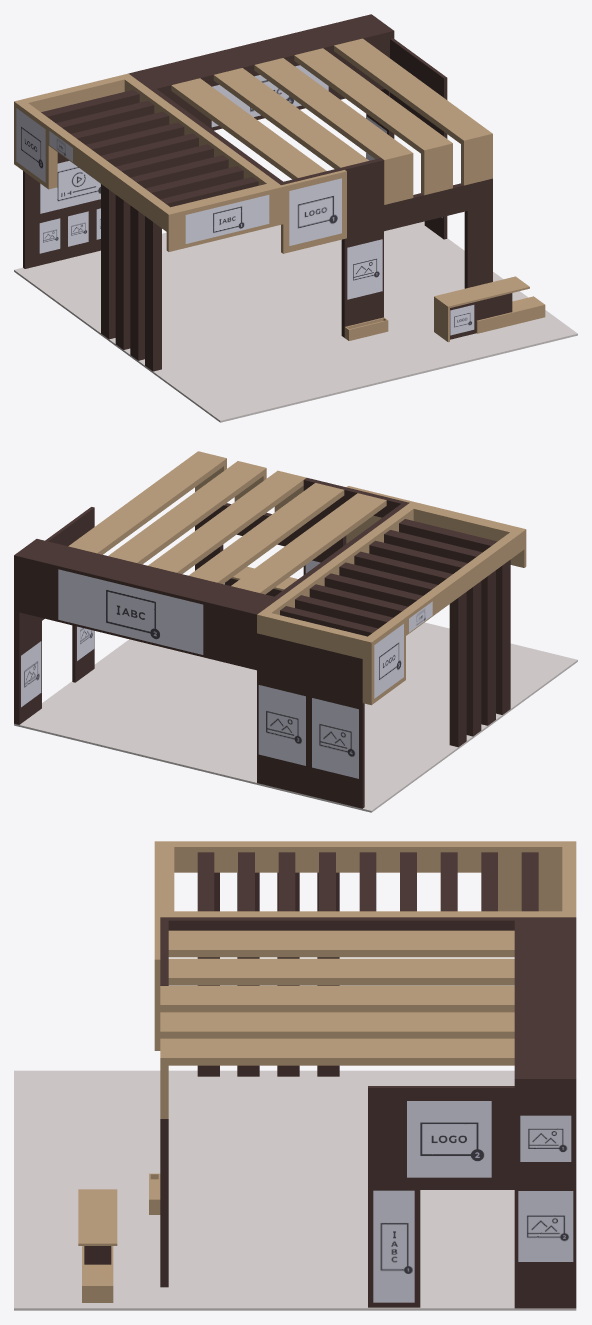
File: stant62.gltf
3 renders of one model, top to bottom at view 1: azimuth 30°, elevation 25°; view 2: azimuth 150°, elevation 25°; view 3: azimuth 270°, elevation 25°, orthographic. The views are drawn at different scales.
Parts seen in each view (by area): view 1: modzemin, modrenk2, modrenk1, modlogo1, modyazi1, modvideo1, moddikgorsel1, modlogo3, modyazi4, moddikgorsel5, moddikgorsel6, modlogo4; view 2: modrenk2, modzemin, modrenk1, modyazi2, moddikgorsel3, moddikgorsel4, modlogo3, moddikgorsel8, moddikgorsel9; view 3: modzemin, modrenk1, modrenk2, modlogo2, moddikyazi1, moddikgorsel2, modgorsel1.
Part boxes in pixels (left/top/right/bottom): modzemin: left=14, top=221, right=577, bottom=422; modrenk2: left=23, top=14, right=512, bottom=371; modrenk1: left=14, top=38, right=545, bottom=342; modlogo1: left=289, top=178, right=341, bottom=245; modyazi1: left=185, top=195, right=269, bottom=243; modvideo1: left=40, top=161, right=100, bottom=213; moddikgorsel1: left=347, top=239, right=382, bottom=299; modlogo3: left=16, top=108, right=45, bottom=182; modyazi4: left=211, top=65, right=328, bottom=127; moddikgorsel5: left=39, top=218, right=60, bottom=253; moddikgorsel6: left=68, top=211, right=88, bottom=246; modlogo4: left=450, top=305, right=474, bottom=335; modrenk2: left=14, top=478, right=510, bottom=808; modzemin: left=14, top=583, right=577, bottom=812; modrenk1: left=68, top=451, right=526, bottom=705; modyazi2: left=58, top=569, right=203, bottom=654; moddikgorsel3: left=258, top=685, right=305, bottom=765; moddikgorsel4: left=312, top=698, right=358, bottom=778; modlogo3: left=374, top=624, right=403, bottom=698; moddikgorsel8: left=21, top=641, right=41, bottom=707; moddikgorsel9: left=77, top=626, right=94, bottom=660; modzemin: left=14, top=1070, right=576, bottom=1310; modrenk1: left=78, top=841, right=576, bottom=1302; modrenk2: left=84, top=852, right=576, bottom=1308; modlogo2: left=407, top=1101, right=491, bottom=1177; moddikyazi1: left=373, top=1190, right=414, bottom=1302; moddikgorsel2: left=518, top=1191, right=573, bottom=1261; modgorsel1: left=520, top=1115, right=571, bottom=1161.
Bounding box in the file's own units: 1.01 × 0.455 × 1.
24 materials, 21 textured.
